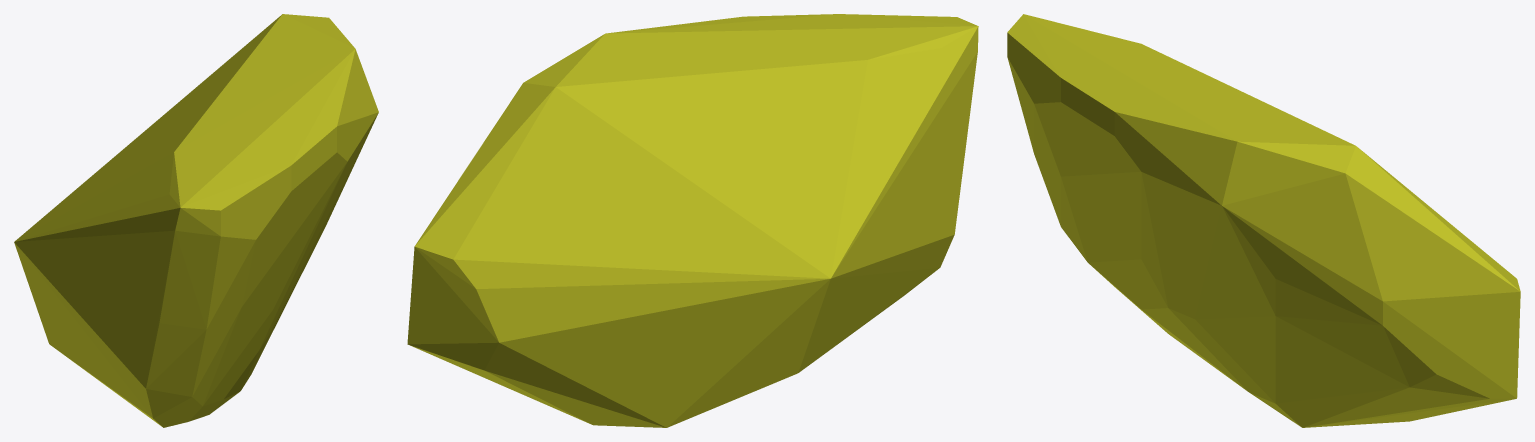
Rendered from mouth_cup028.obj.
3 renders of one model, left to right at view 1: azimuth 30°, elevation 25°; view 2: azimuth 150°, elevation 25°; view 3: azimuth 270°, elevation 25°, orthographic. The views are drawn at different scales.
Parts seen in each view (by area): view 1: mouth_cup028; view 2: mouth_cup028; view 3: mouth_cup028.
Part boxes in pixels (<box>): mouth_cup028: <box>14,14,378,427</box>; mouth_cup028: <box>407,14,978,427</box>; mouth_cup028: <box>1007,14,1520,427</box>.
Bounding box in the file's own units: 0.0866 × 0.08 × 0.1146.
